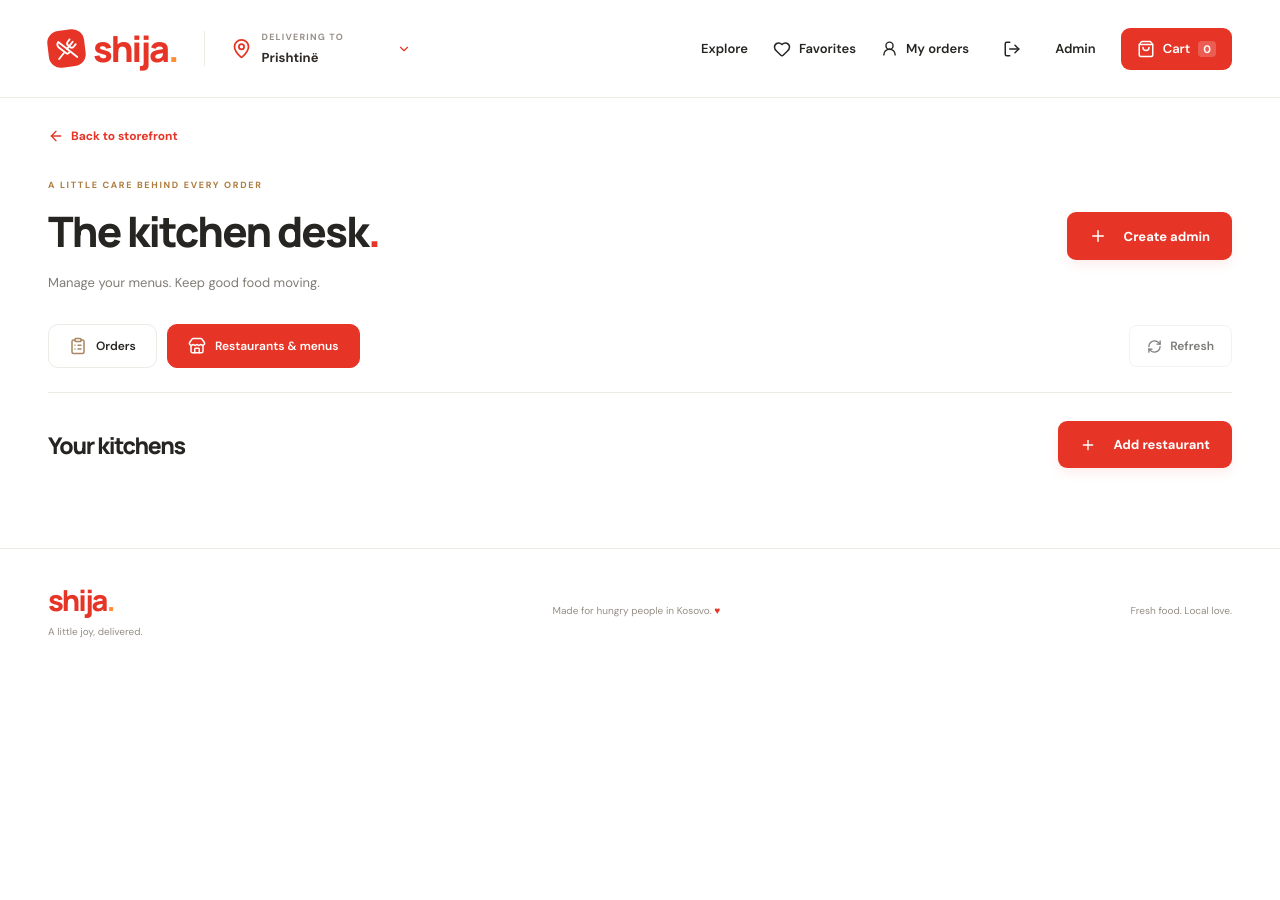
Test case: admin deep links select the right section and update the URL
Check: the heading "Your kitchens" is shown, box x1=48 y1=429 x2=185 y2=461
Click the button "Orders": (102, 346) x1=48 y1=324 x2=157 y2=368
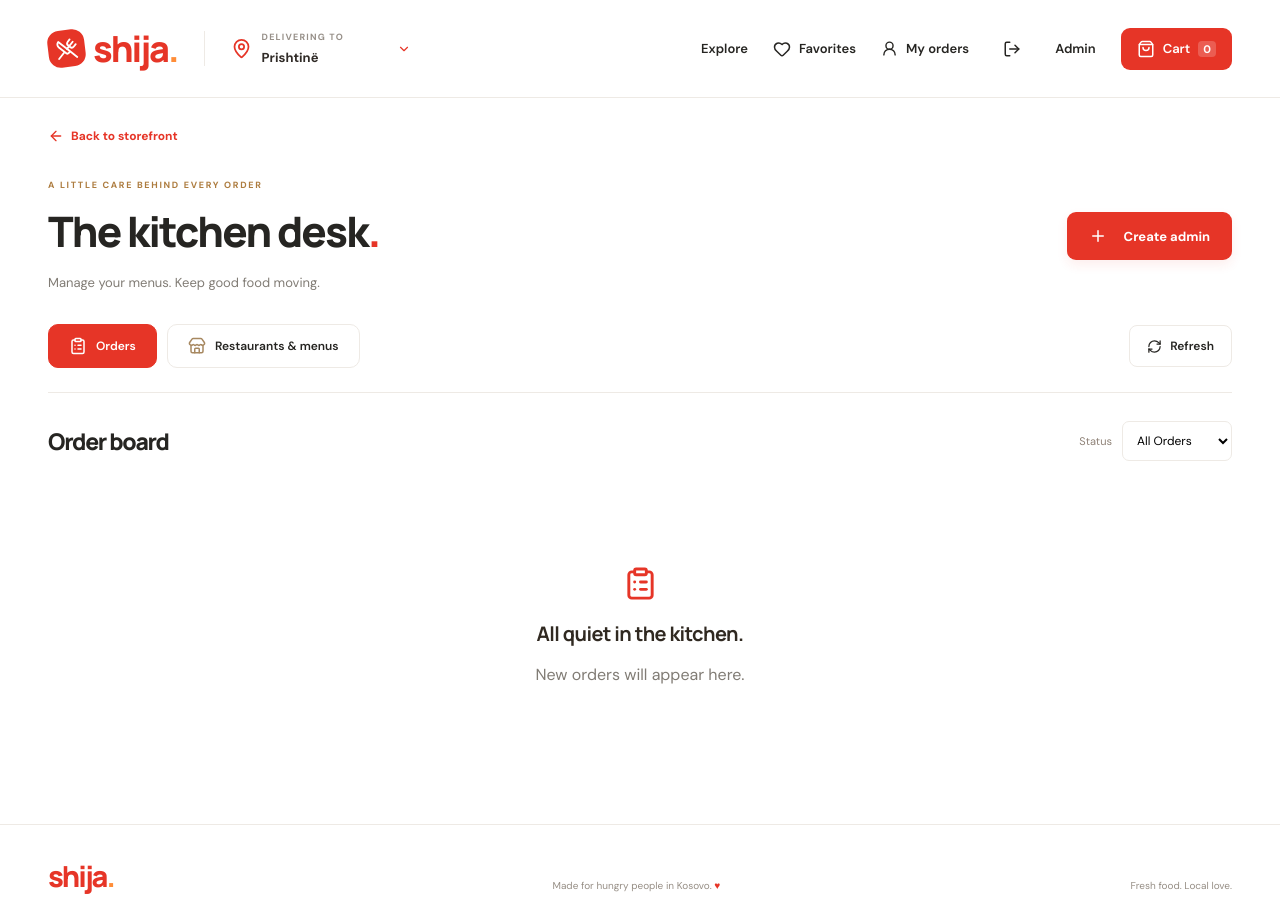
Check: the heading "Order board" is shown, box x1=48 y1=425 x2=169 y2=457
